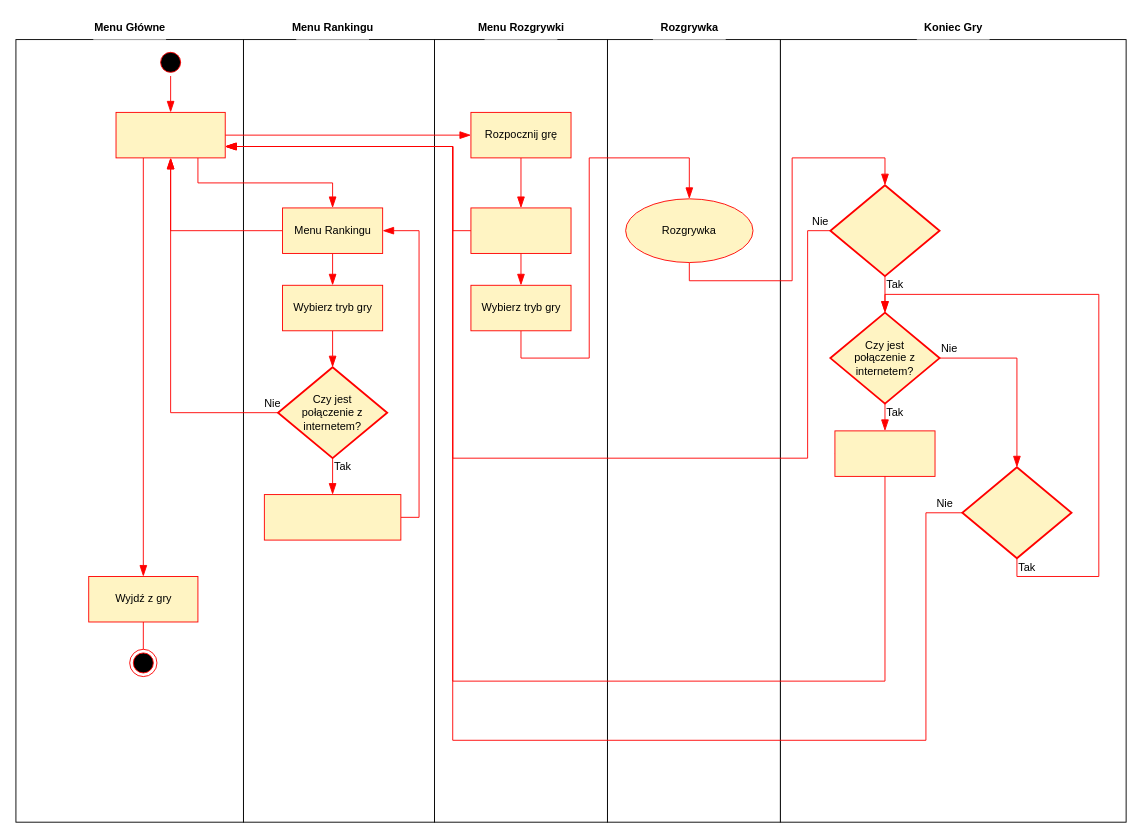
Image size: 1142x838. Some labels were removed from this diagram. Each missing label, with the centre of its shape:
Czy ponowić próbę połączenia?: pixel 1016 512
Gracz wygrał?: pixel 884 230
Menu Trybu gry: pixel 520 230
Wysłanie wyniku na serwer: pixel 884 453
Wyświetl 10 najlepszych wyników: pixel 332 517
Wyświetl menu główne: pixel 170 134
